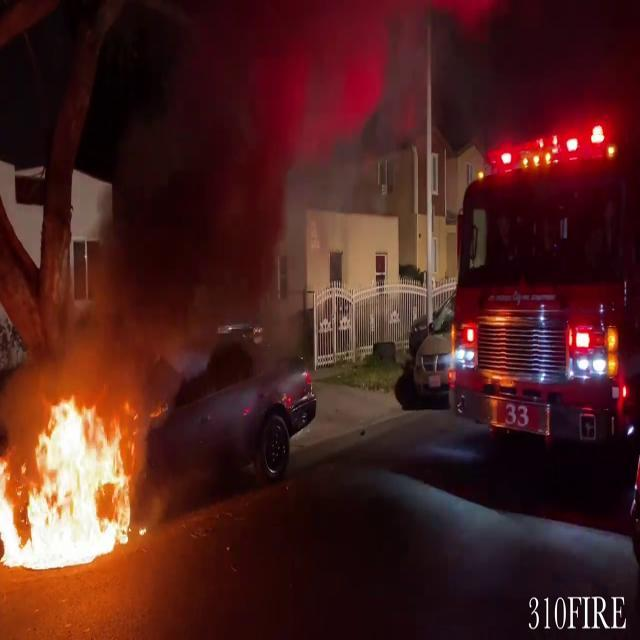Fire: (0, 388, 146, 574)
Smoke: (89, 1, 346, 336)
